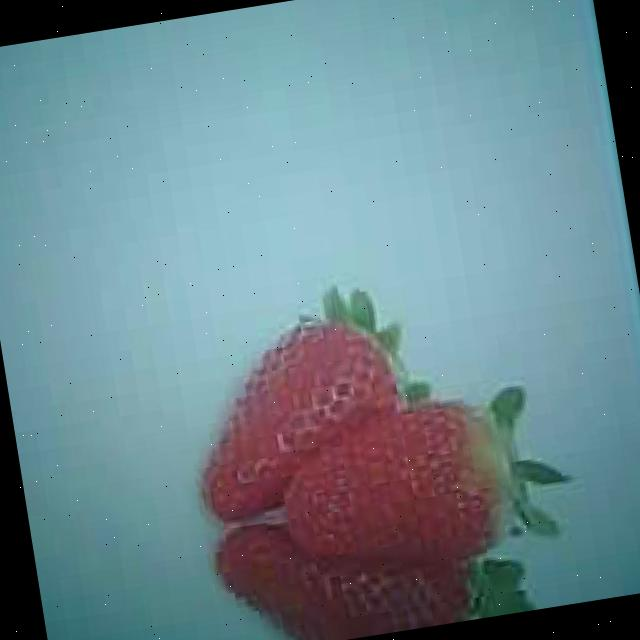strawberry: (182, 310, 416, 521), (274, 394, 523, 586)
